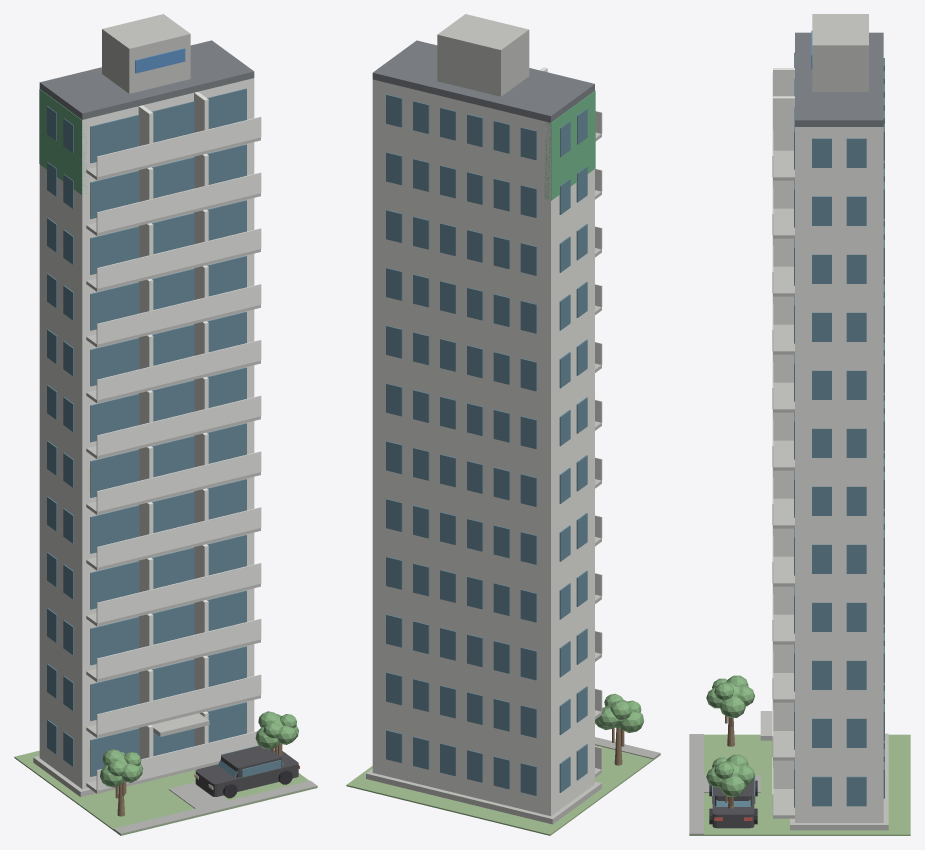
Rendered from apartment.fbx.
3 views of the same model, side by side, from view 1: azimuth 30°, elevation 25°; view 2: azimuth 150°, elevation 25°; view 3: azimuth 270°, elevation 25° (orthographic). The views are drawn at different scales.
Parts seen in each view (by area): view 1: apartment; view 2: apartment; view 3: apartment.
Boxes of the visible parts, bbox=[...] form: apartment: bbox=[14, 14, 317, 835]; apartment: bbox=[346, 14, 660, 835]; apartment: bbox=[689, 14, 910, 835].
Size of the model in its own units: 964 by 3390 by 900.
